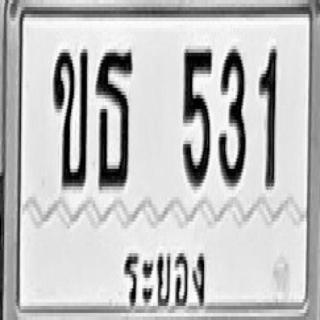A02: (52, 46, 88, 190)
A24: (95, 47, 133, 188)
N01: (258, 46, 276, 190)
N03: (218, 46, 246, 186)
N05: (182, 46, 212, 186)
P53: (122, 242, 210, 320)
